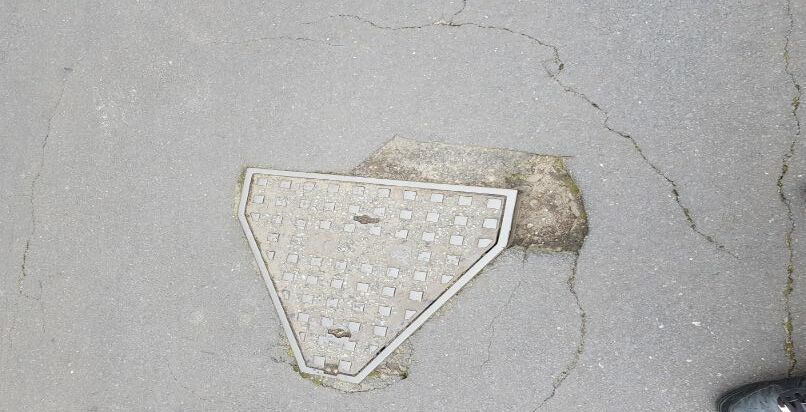pothole: (338, 129, 593, 259)
